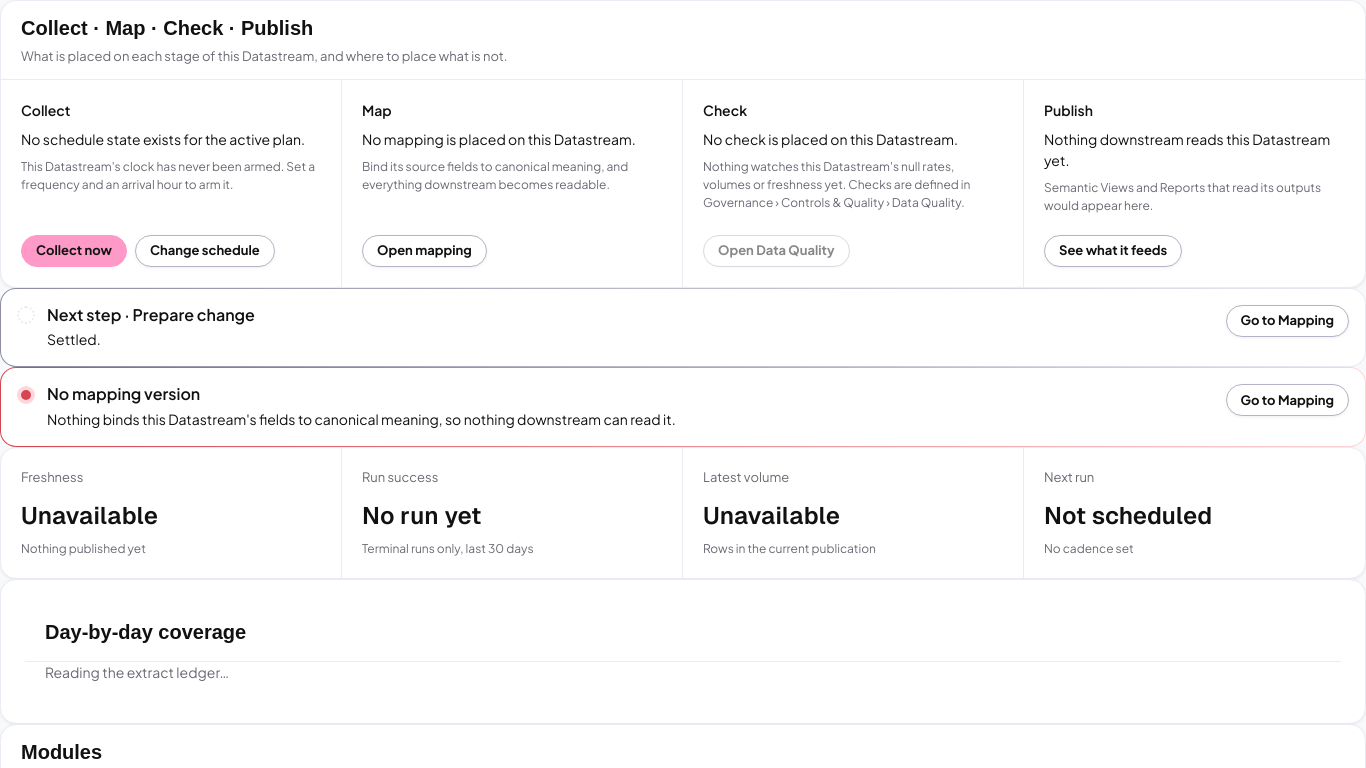
it: Collect now › starts the run only on the confirmation, and reports what was queued
This screenshot has width=1366, height=768.
Click the button with test id "stage-collect-now".
click(74, 250)  # box [21, 234, 127, 266]
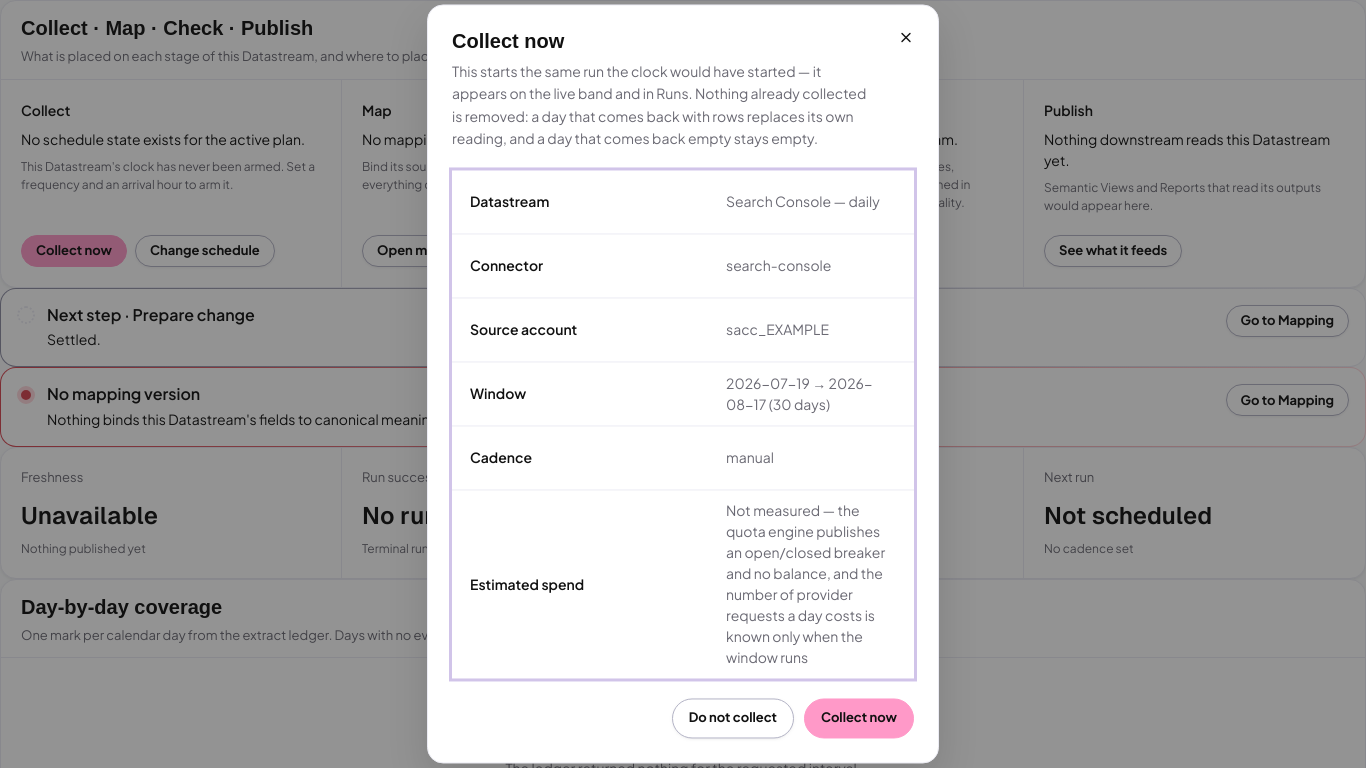
expect the dialog with test id "collect-now-confirm" is shown: met, box [427, 4, 939, 764]
Click the button with test id "collect-now-go".
click(859, 718)  # box [804, 698, 914, 738]
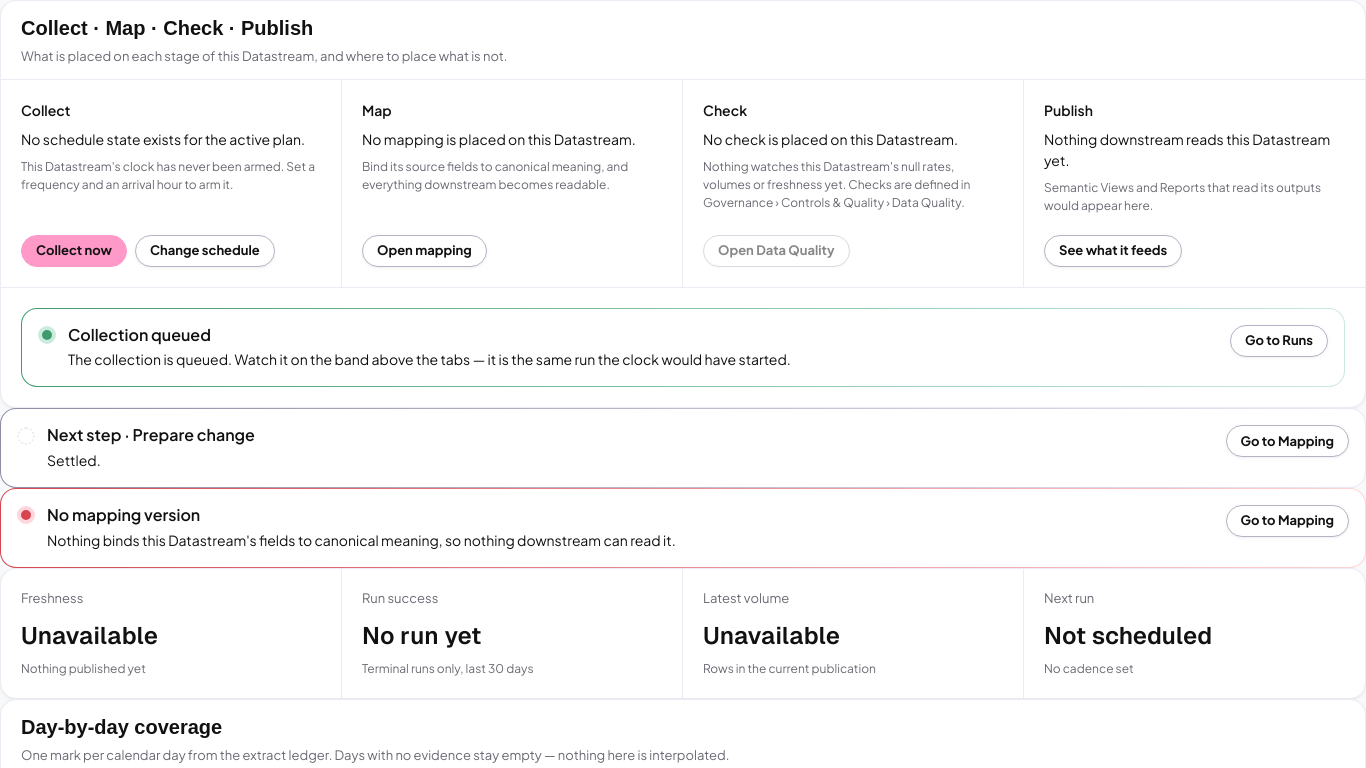
expect the text "Collection queued" is shown: met, box [68, 324, 211, 344]
